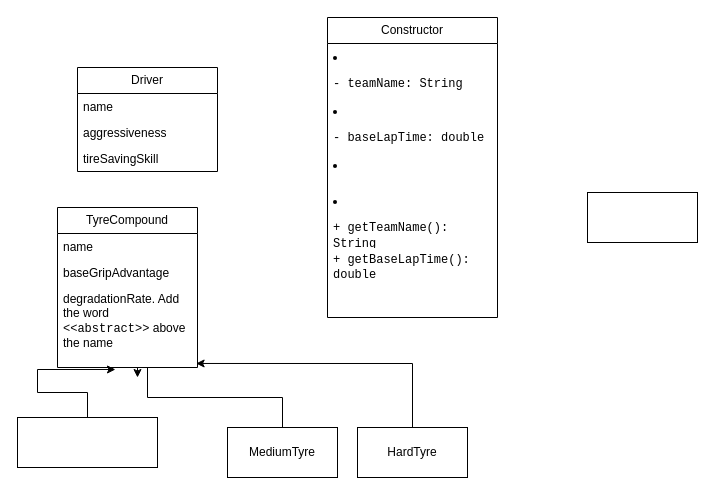
The diagram is 715 pixels wide and 495 high, and some of its shapes have lost their labels. The shapes that lost their labels are listed below. From the top down, each one's centre as x and y in pixels, then its label:
the point at 642,217: «SimulationEngine» + simulateRace()
the point at 87,442: SoftTyre
